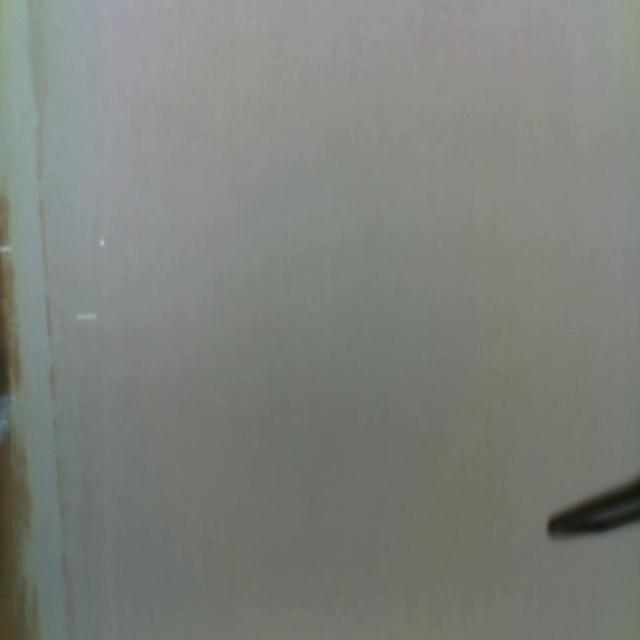color bleeding: (0, 0, 80, 639)
